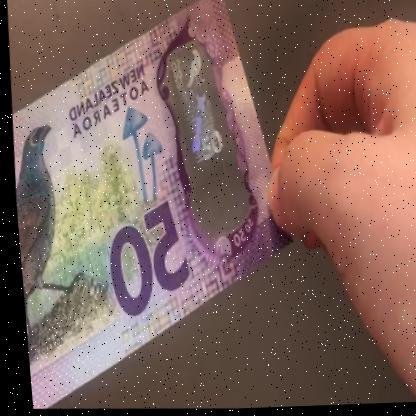50B: (160, 44, 245, 227)
